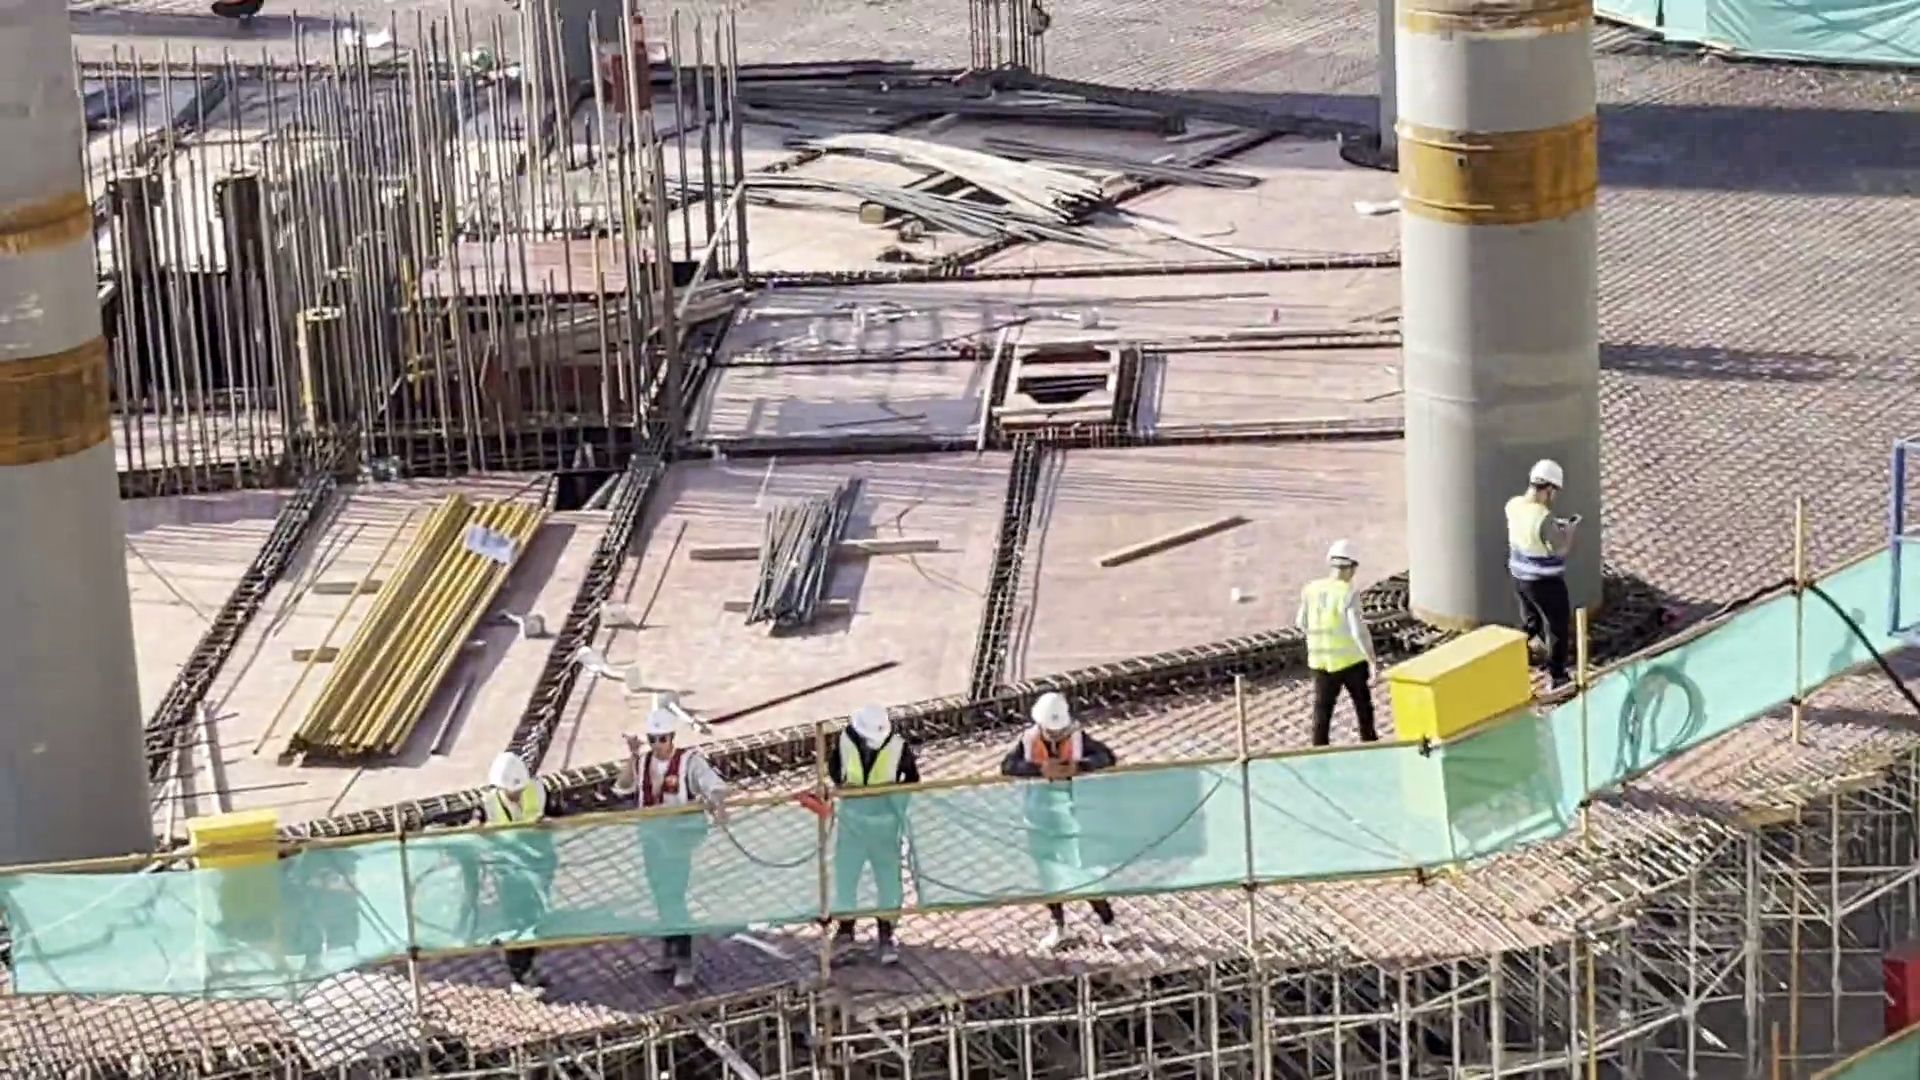helmet: (486, 753, 533, 791), (1026, 702, 1075, 737), (849, 704, 906, 735), (1525, 454, 1570, 486), (643, 709, 675, 748), (1329, 535, 1359, 564)
person: (1003, 676, 1110, 967), (814, 687, 921, 974), (618, 709, 722, 964), (1501, 448, 1599, 706), (1292, 530, 1392, 760), (466, 752, 545, 949)
vest: (1299, 571, 1367, 676), (1019, 731, 1085, 828), (838, 730, 900, 832), (1497, 486, 1577, 564), (636, 752, 688, 828), (481, 783, 544, 845)
